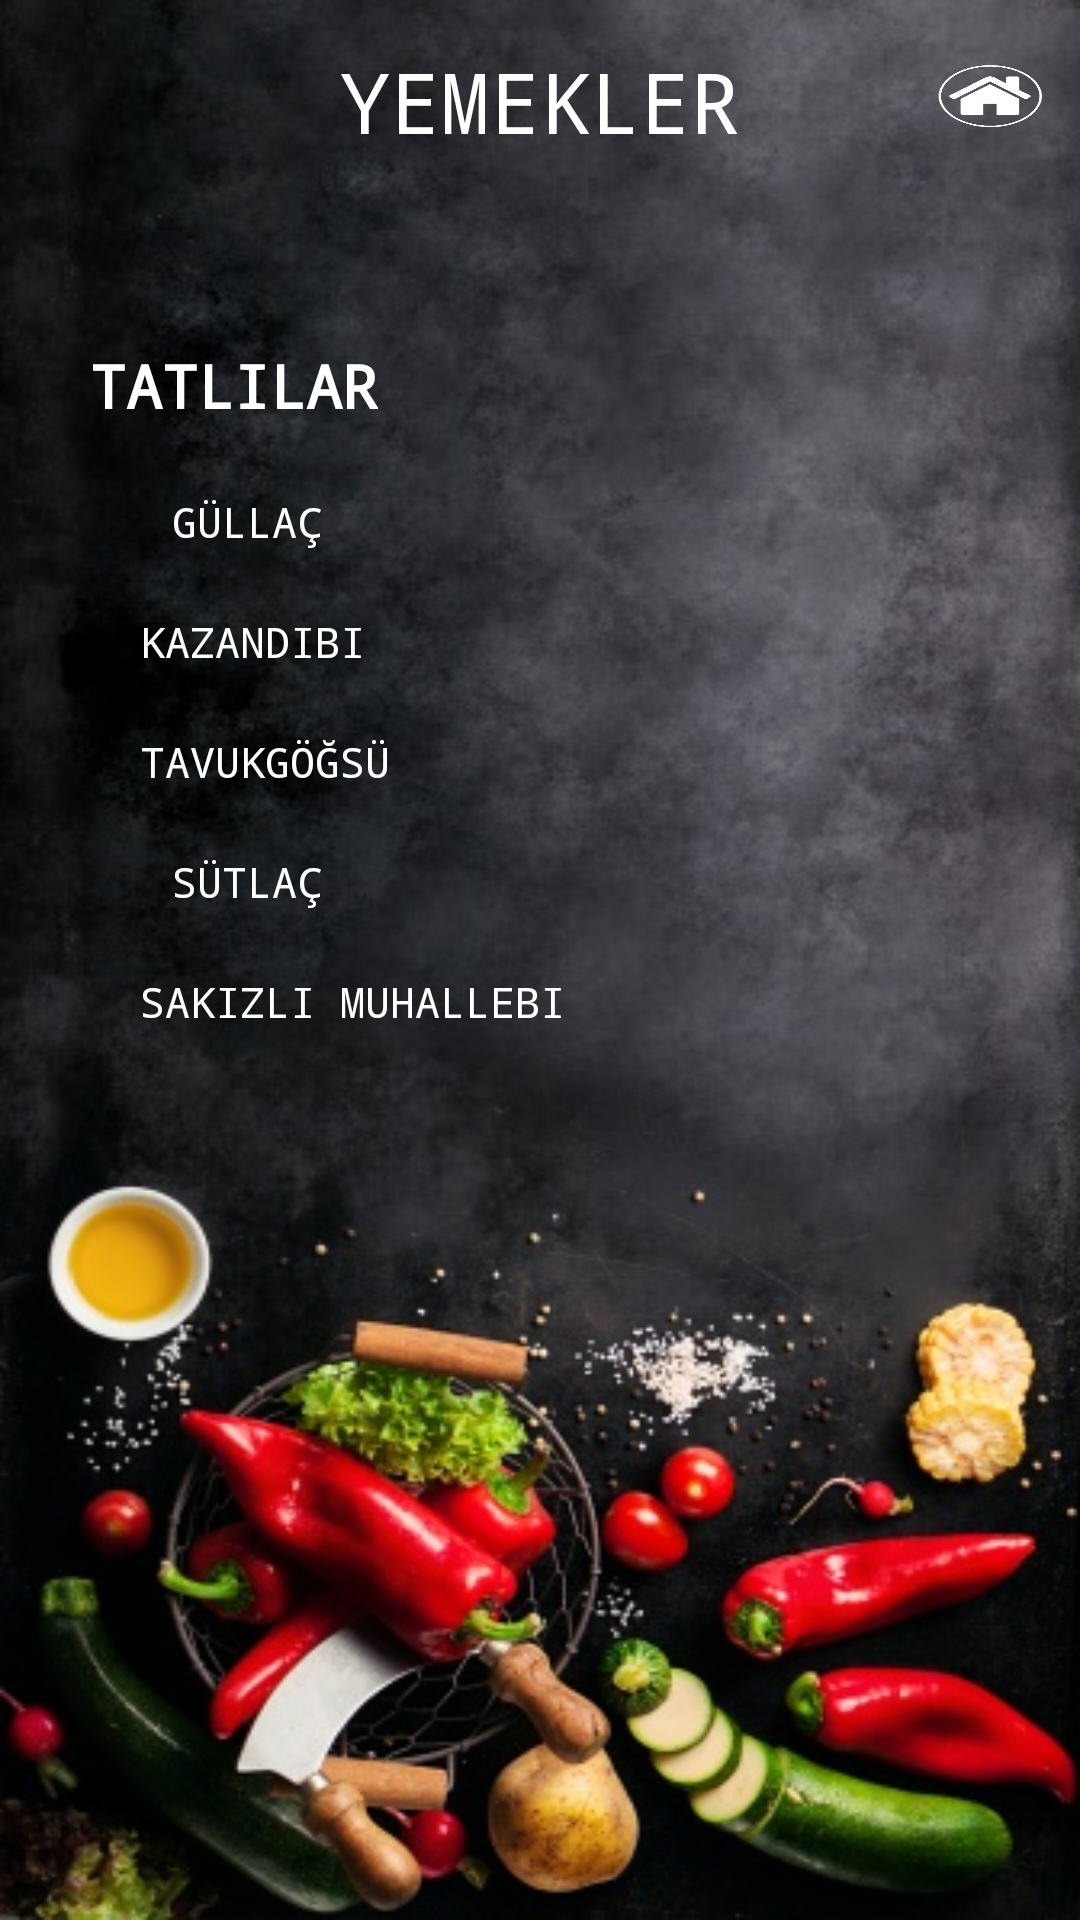

Named icons in this screenshot (1080*1920) and their centers, [x,y]:
home: [990,96]
